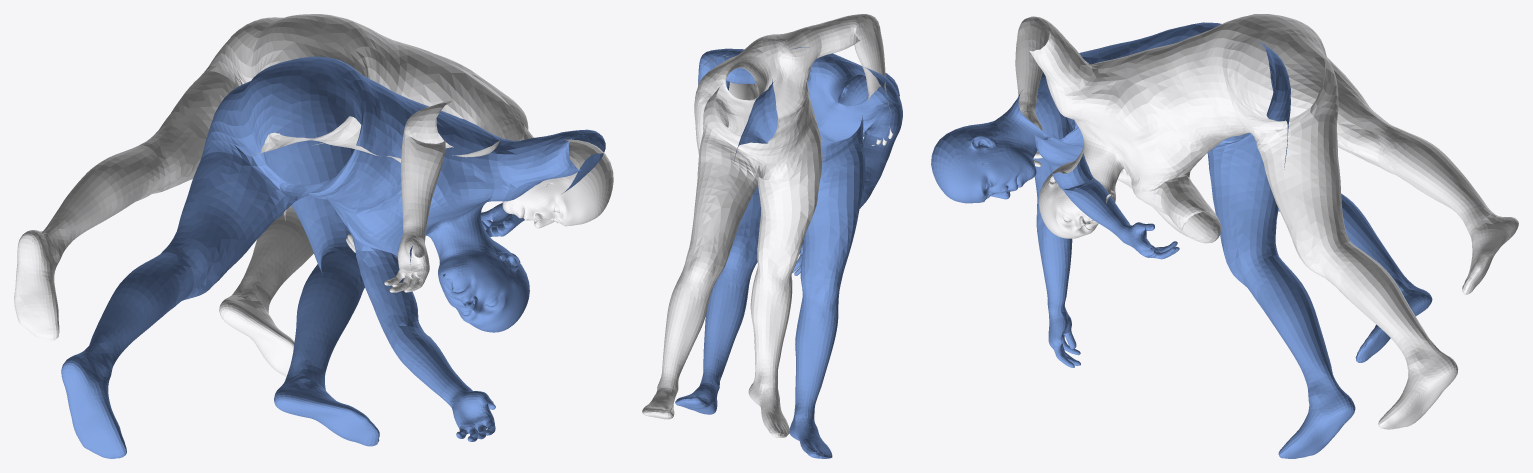
Rendered from hip-throw-3-load.glb.
3 renders of one model, left to right at view 1: azimuth 30°, elevation 25°; view 2: azimuth 150°, elevation 25°; view 3: azimuth 270°, elevation 25°, orthographic. The views are drawn at different scales.
Visible parts, largest first — view 1: p1, p0; view 2: p0, p1; view 3: p0, p1.
Boxes of the visible parts, x1,y1,x2,y2 form: p1: (61, 56, 605, 458); p0: (14, 14, 613, 376); p0: (642, 14, 893, 437); p1: (675, 47, 902, 458); p0: (1015, 14, 1518, 429); p1: (931, 22, 1432, 458).
Size of the model in its own units: 0.8928 by 1.09 by 1.45.
